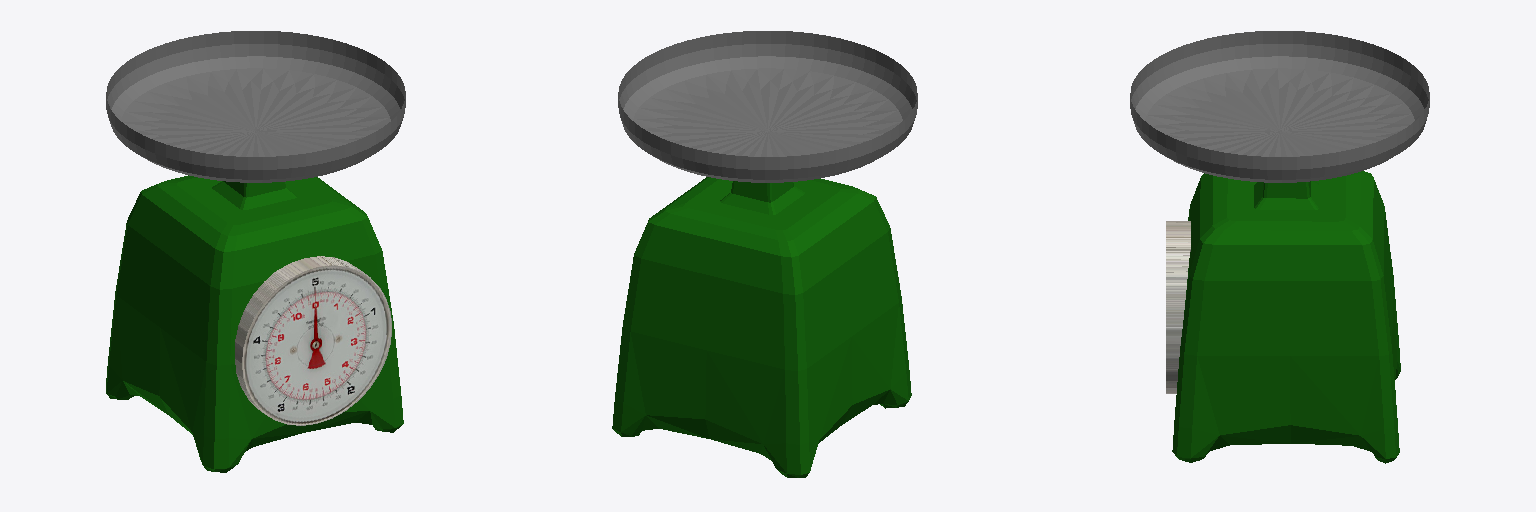
The picture shows the model from 3 angles: view 1: azimuth 30°, elevation 25°; view 2: azimuth 150°, elevation 25°; view 3: azimuth 270°, elevation 25°; orthographic projection.
Parts seen in each view (by area): view 1: base-peso_Cube.030, bandeja-peso_Circle.016, esfera-peso_Circle.017; view 2: base-peso_Cube.030, bandeja-peso_Circle.016; view 3: base-peso_Cube.030, bandeja-peso_Circle.016, esfera-peso_Circle.017.
Boxes of the visible parts, <box> form: base-peso_Cube.030: <box>106,175,403,472</box>; bandeja-peso_Circle.016: <box>106,31,405,182</box>; esfera-peso_Circle.017: <box>235,256,391,425</box>; base-peso_Cube.030: <box>612,177,911,477</box>; bandeja-peso_Circle.016: <box>618,31,917,182</box>; base-peso_Cube.030: <box>1172,171,1400,463</box>; bandeja-peso_Circle.016: <box>1130,31,1429,182</box>; esfera-peso_Circle.017: <box>1166,221,1190,393</box>.
Bounding box in the file's own units: 0.8365 × 1 × 0.8365.
3 materials, 1 textured.